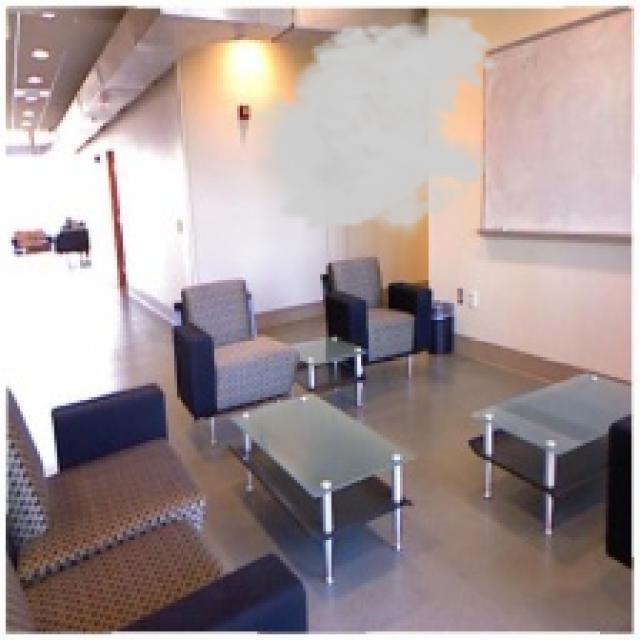smoke: (243, 11, 500, 246)
